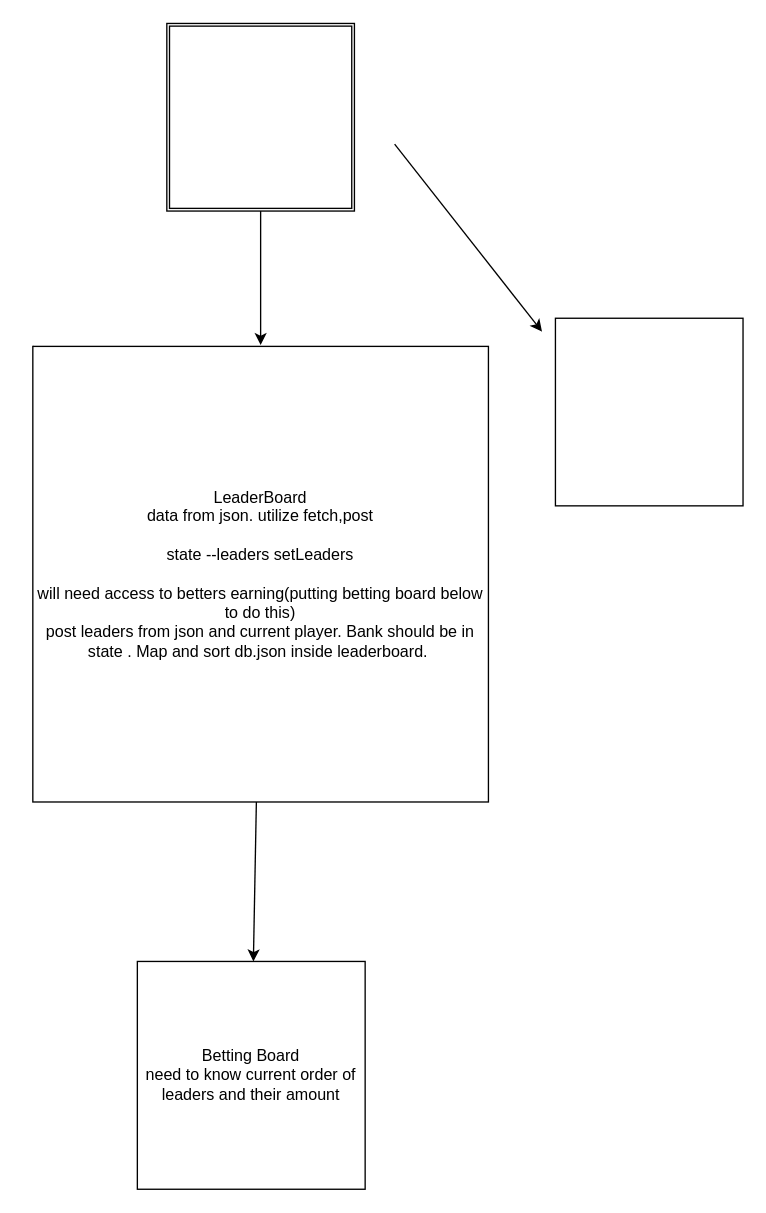
Some shapes in this 766 by 1213 pixel diagram are drawn without their labels. The centre of each missing label's shape, as x and y in pixels:
"App.js useState,useEffect" goes at (x=259, y=116).
"Home /about-describe rules of the game (save the name of the player)" goes at (x=648, y=411).
